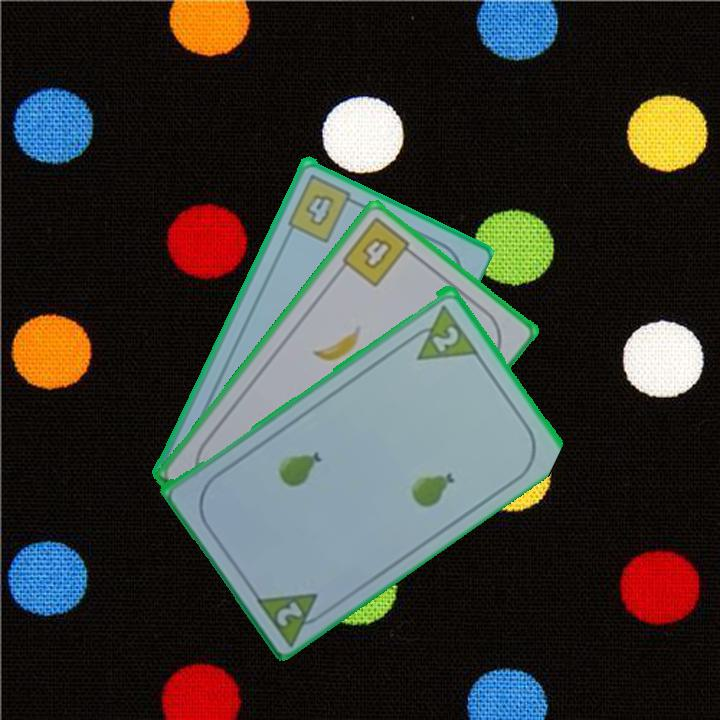2p: (251, 588, 333, 647), (428, 321, 462, 354)
4b: (338, 213, 420, 290), (284, 170, 362, 245)
